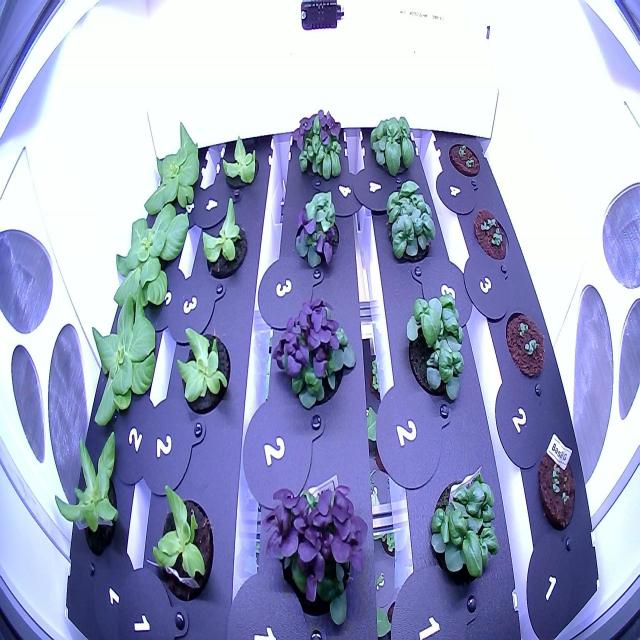germination: (532, 439, 580, 537), (501, 299, 549, 395), (471, 194, 513, 272), (446, 125, 486, 188)
young: (78, 292, 166, 434), (50, 424, 131, 562), (105, 195, 195, 318), (146, 472, 222, 609), (168, 310, 235, 428), (140, 114, 208, 224), (196, 191, 250, 288), (217, 128, 262, 206)
